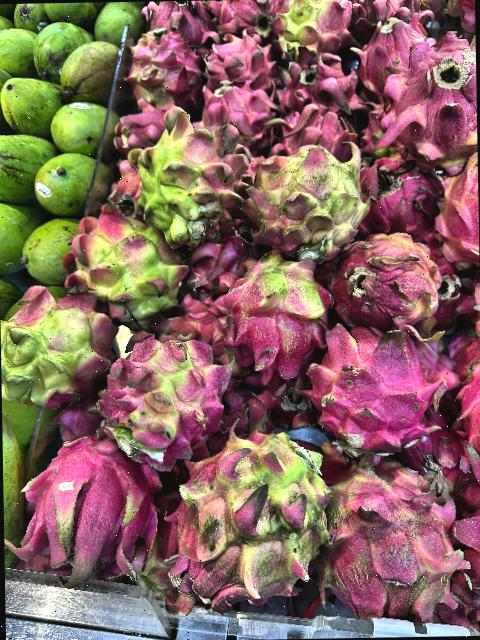buah-naga-belum-matang: (179, 422, 336, 606), (320, 446, 466, 629), (107, 322, 234, 466), (132, 112, 250, 248), (0, 280, 123, 402), (242, 144, 364, 260), (64, 208, 184, 318), (220, 246, 328, 367), (130, 28, 202, 114), (262, 0, 351, 59)
buah-naga-matang: (23, 429, 164, 588), (311, 331, 448, 450), (384, 31, 477, 168), (328, 235, 446, 336), (356, 152, 444, 240), (353, 12, 434, 87), (271, 55, 355, 126), (272, 98, 365, 161), (202, 78, 284, 148), (198, 32, 281, 98), (443, 146, 479, 258), (142, 1, 212, 44), (118, 104, 170, 152), (106, 163, 150, 215), (206, 0, 269, 36), (346, 0, 408, 34)
